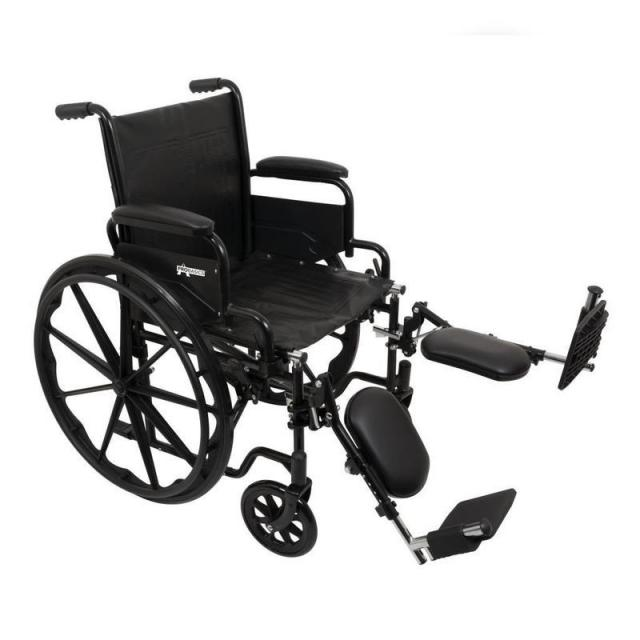wheelchair: (31, 64, 615, 605)
